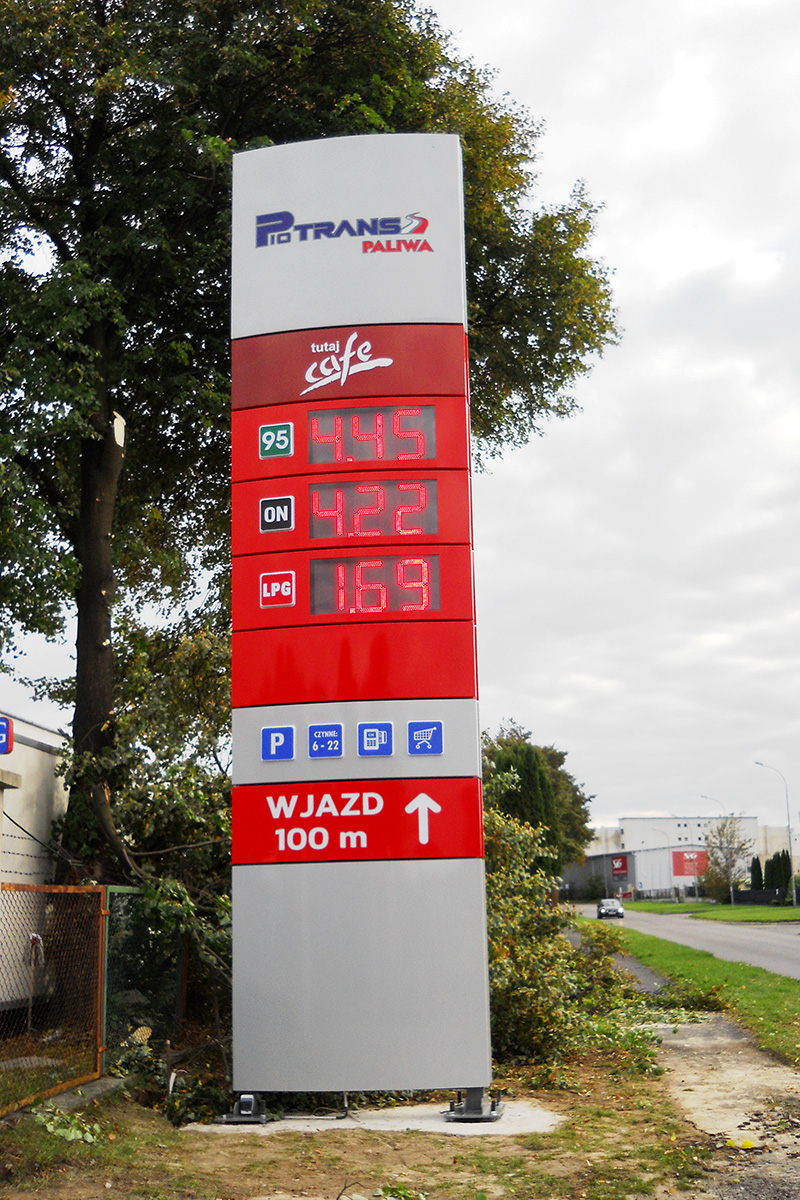LPG: (253, 569, 301, 610)
ON: (257, 490, 298, 531)
PB95: (253, 415, 297, 462)
